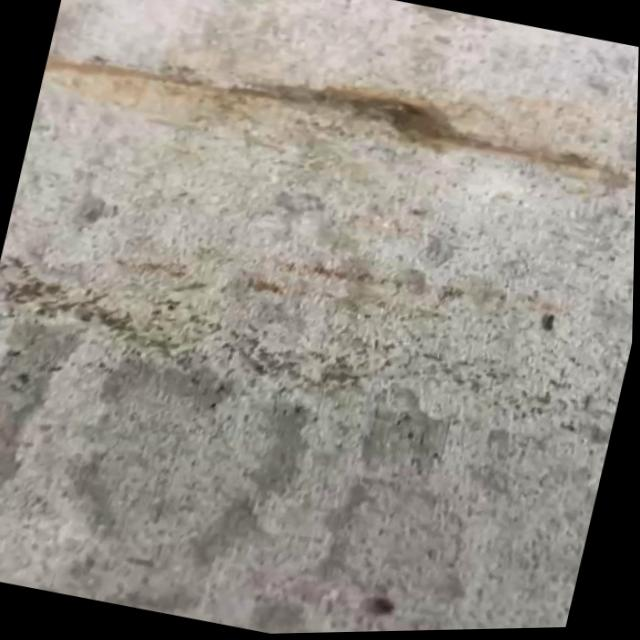Crack: (147, 36, 563, 181)
